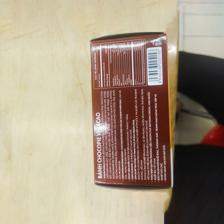Chocopie_cacao: (87, 31, 174, 190)
